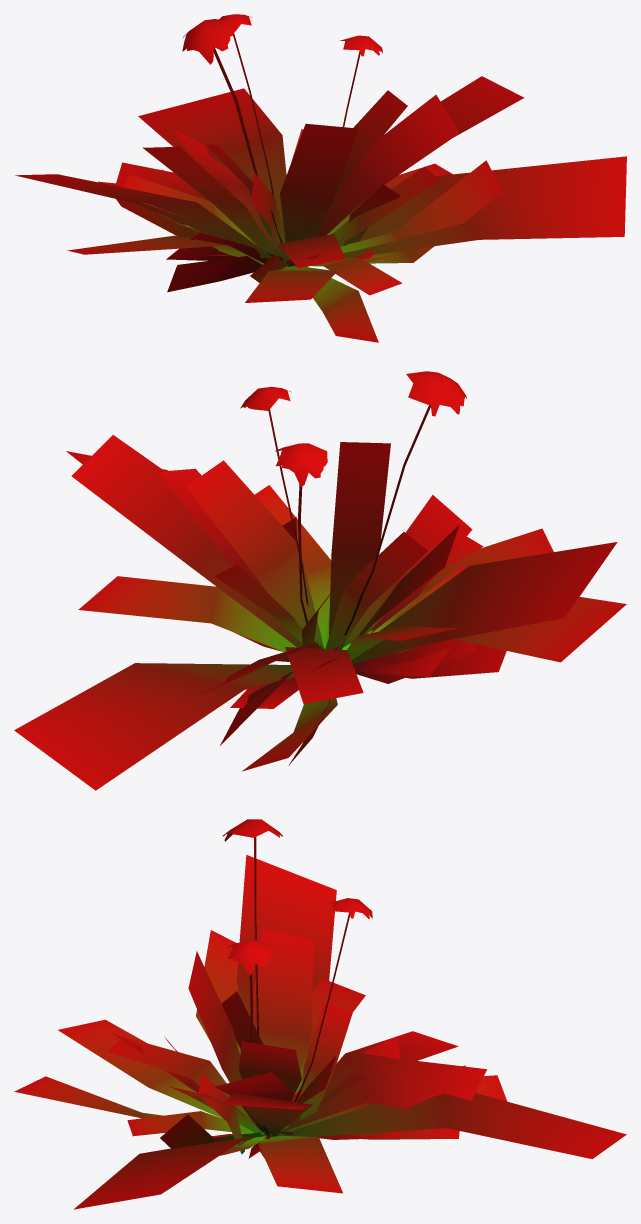
File: Var1_LOD2.fbx
The picture shows the model from 3 angles, top to bottom: view 1: azimuth 30°, elevation 25°; view 2: azimuth 150°, elevation 25°; view 3: azimuth 270°, elevation 25°; orthographic projection. The views are drawn at different scales.
Visible parts, largest first — view 1: _1b3f_Var1_LOD2; view 2: _1b3f_Var1_LOD2; view 3: _1b3f_Var1_LOD2.
Part boxes in pixels (x1,y1,x2,y2): _1b3f_Var1_LOD2: (15, 14, 626, 342); _1b3f_Var1_LOD2: (14, 371, 626, 790); _1b3f_Var1_LOD2: (14, 819, 626, 1209).
Bounding box in the file's own units: 46.49 × 23.7 × 46.45.
